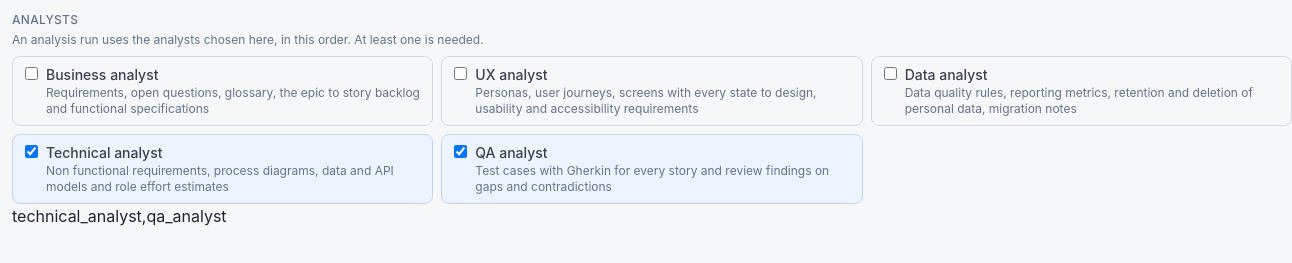
Test case: analyst picker › never lets the last analyst be switched off
Click the checkbox labelled "QA analyst": point(461, 152) [454,145,467,158]
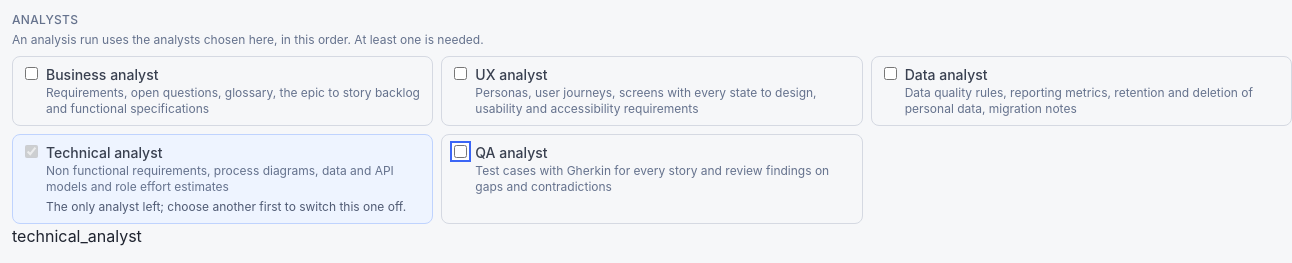
Expected: the checkbox labelled "Technical analyst" is disabled, [25,145,38,158]
Expected: the text "The only analyst left" is shown, [46,199,406,214]
Expected: the text "technical_analyst" is shown, [12,226,142,246]
